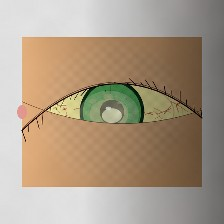corneal_ulcer: (77, 89, 141, 140)
